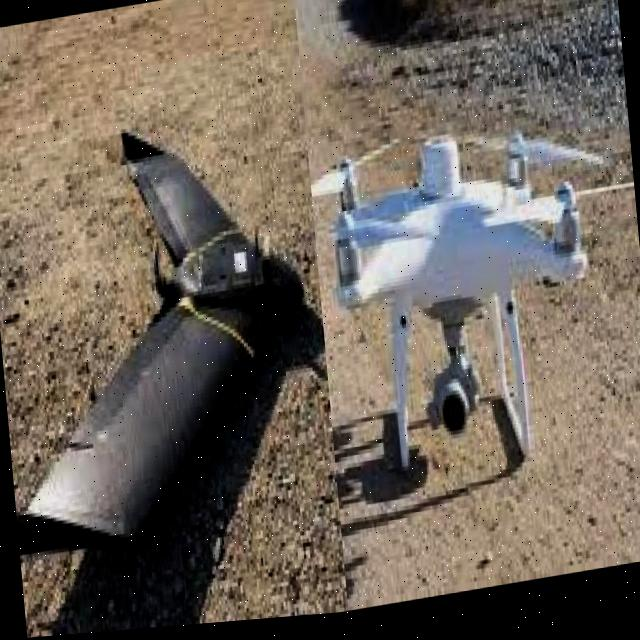drone: (302, 92, 638, 521)
